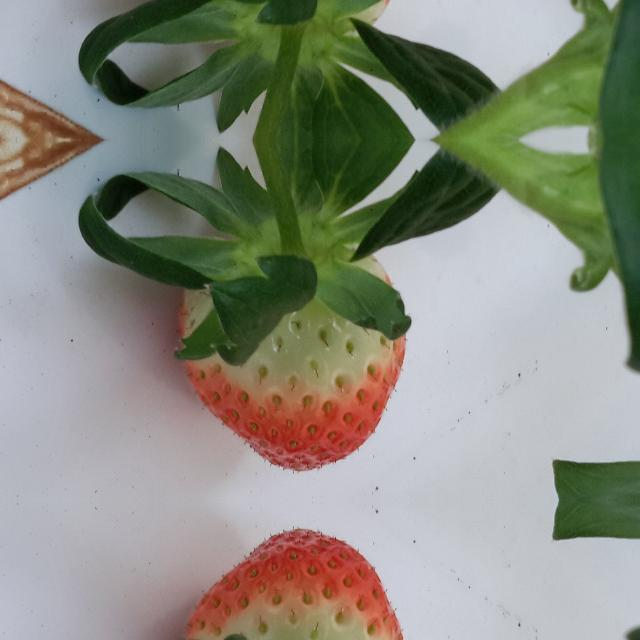Health_75: (176, 245, 407, 472), (175, 527, 406, 640)
